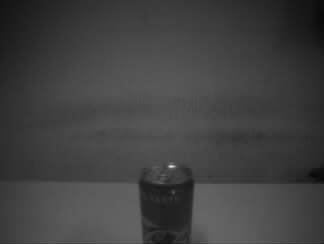Tin can: (137, 160, 194, 244)
